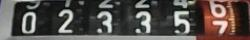digits: (169, 10, 193, 38), (131, 11, 154, 37), (94, 11, 116, 37), (17, 11, 38, 37), (56, 8, 74, 32), (204, 0, 228, 17)
